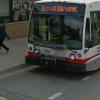Bus: (18, 3, 100, 78)
